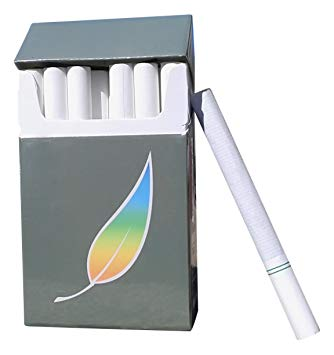cigarette: (192, 84, 325, 344)
